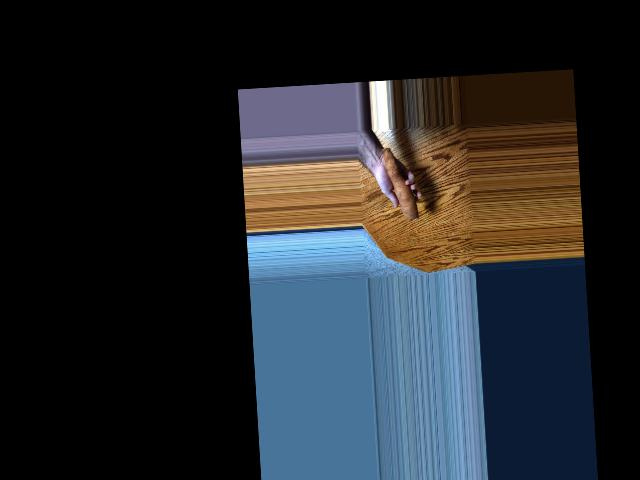sweet_potato: (379, 147, 420, 221)
